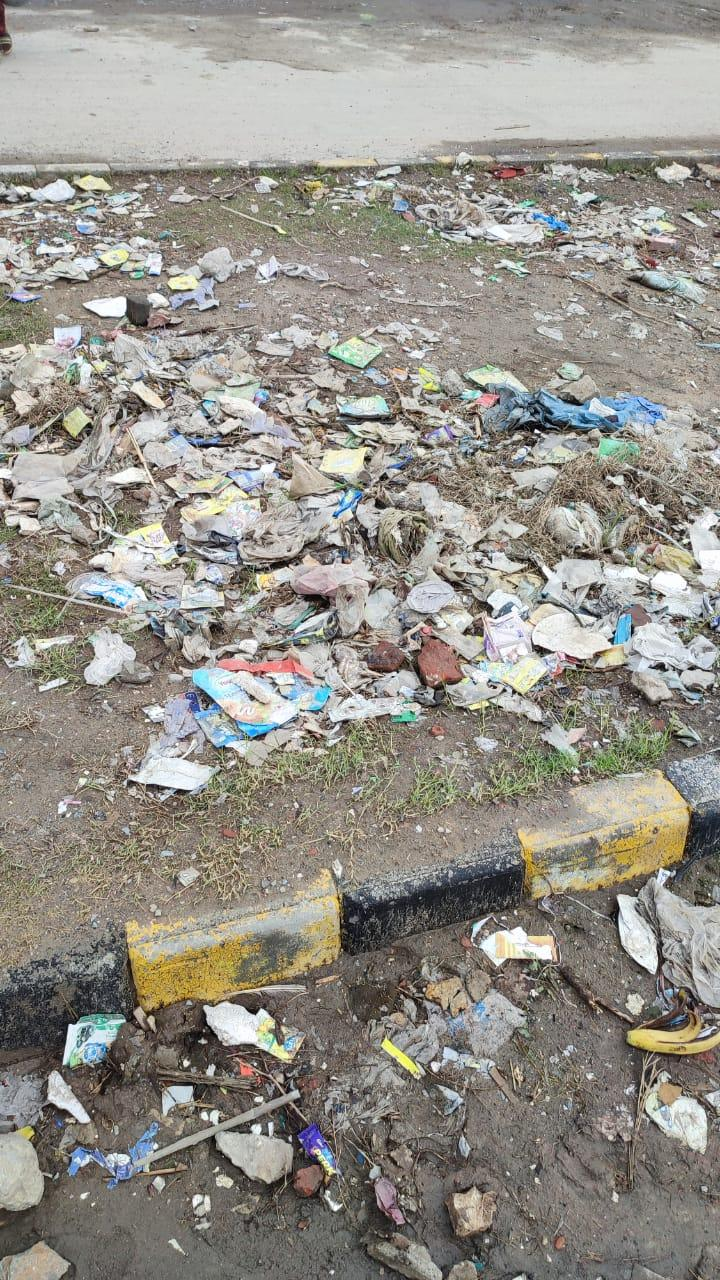garbage: (0, 310, 720, 803)
